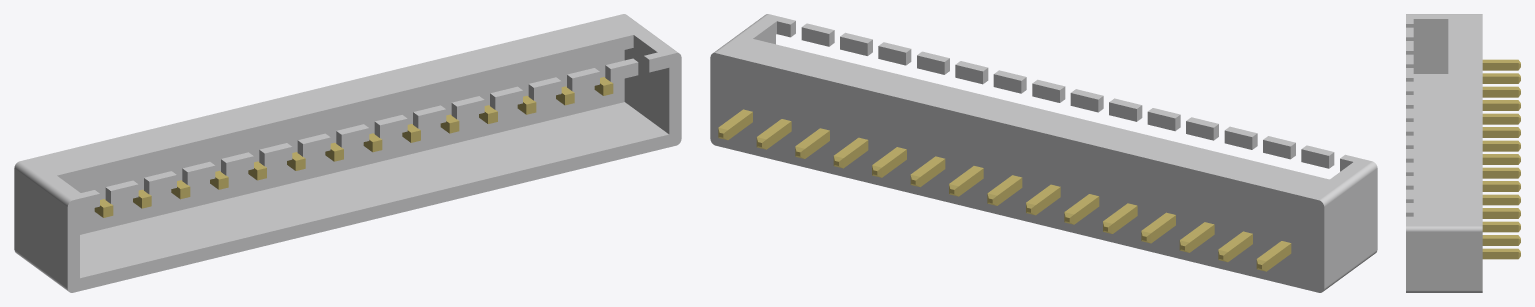
File: jst_xh_15pin.glb
3 renders of one model, left to right at view 1: azimuth 30°, elevation 25°; view 2: azimuth 150°, elevation 25°; view 3: azimuth 270°, elevation 25°, orthographic. The views are drawn at different scales.
Visible parts, largest first — view 1: world; view 2: world; view 3: world.
Boxes of the visible parts, x1=… form: world: x1=14, y1=14, x2=681, y2=292; world: x1=710, y1=14, x2=1377, y2=292; world: x1=1406, y1=14, x2=1520, y2=292.
Size of the model in its own units: 39.9 by 5.75 by 9.
